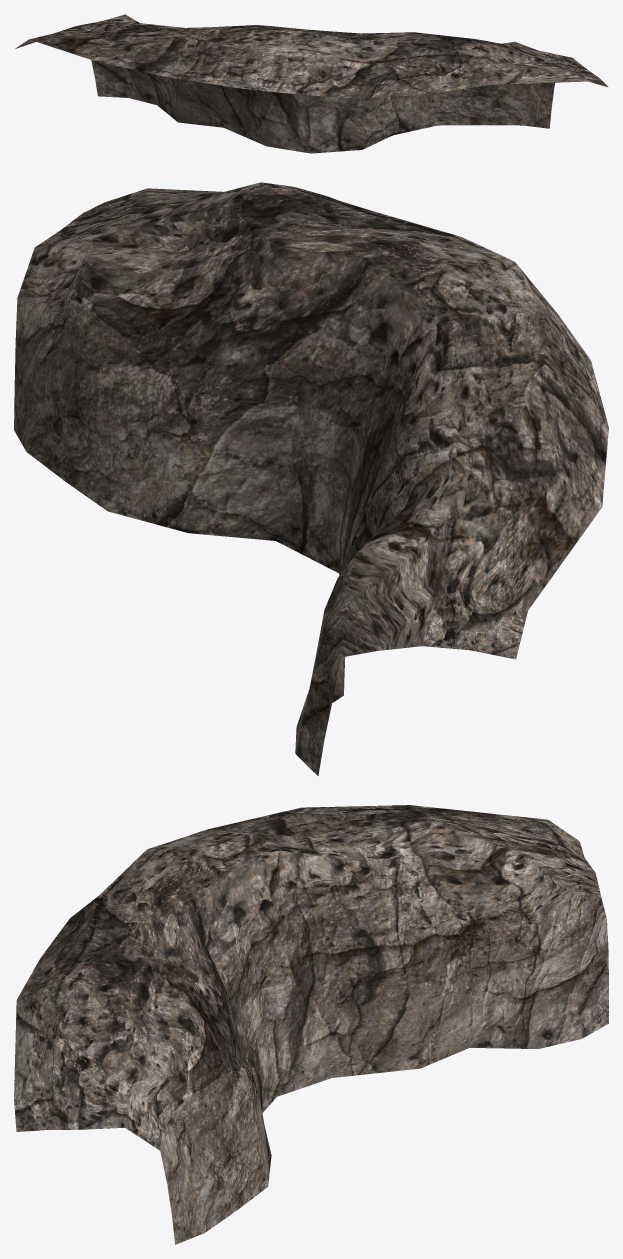
The model's file is Ext_Rock_AngleIn_01.FBX.
3 renders of one model, top to bottom at view 1: azimuth 30°, elevation 25°; view 2: azimuth 150°, elevation 25°; view 3: azimuth 270°, elevation 25°, orthographic. The views are drawn at different scales.
Visible parts, largest first — view 1: Ext_Rock_AngleIn_01; view 2: Ext_Rock_AngleIn_01; view 3: Ext_Rock_AngleIn_01.
Boxes of the visible parts, x1,y1,x2,y2 form: Ext_Rock_AngleIn_01: [15, 14, 608, 153]; Ext_Rock_AngleIn_01: [14, 182, 608, 775]; Ext_Rock_AngleIn_01: [14, 805, 608, 1244].
Size of the model in its own units: 14110 by 4945 by 12064.
